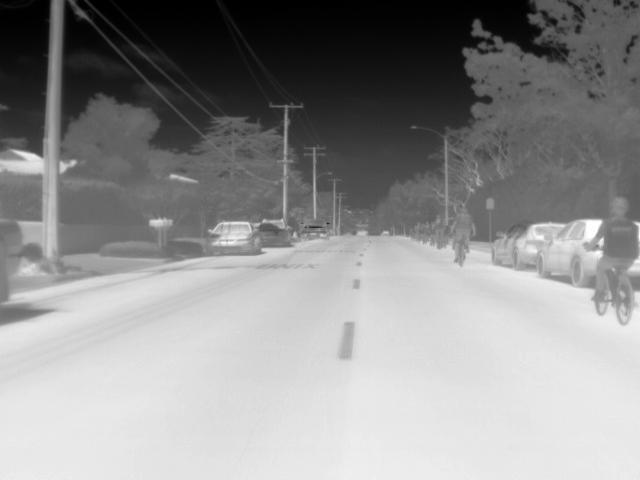car: (530, 216, 606, 285), (489, 220, 570, 268), (0, 220, 27, 306), (207, 218, 263, 256), (257, 218, 292, 248), (623, 220, 639, 281), (301, 219, 331, 241), (353, 222, 371, 236)
person: (581, 193, 639, 304), (451, 205, 473, 254)
